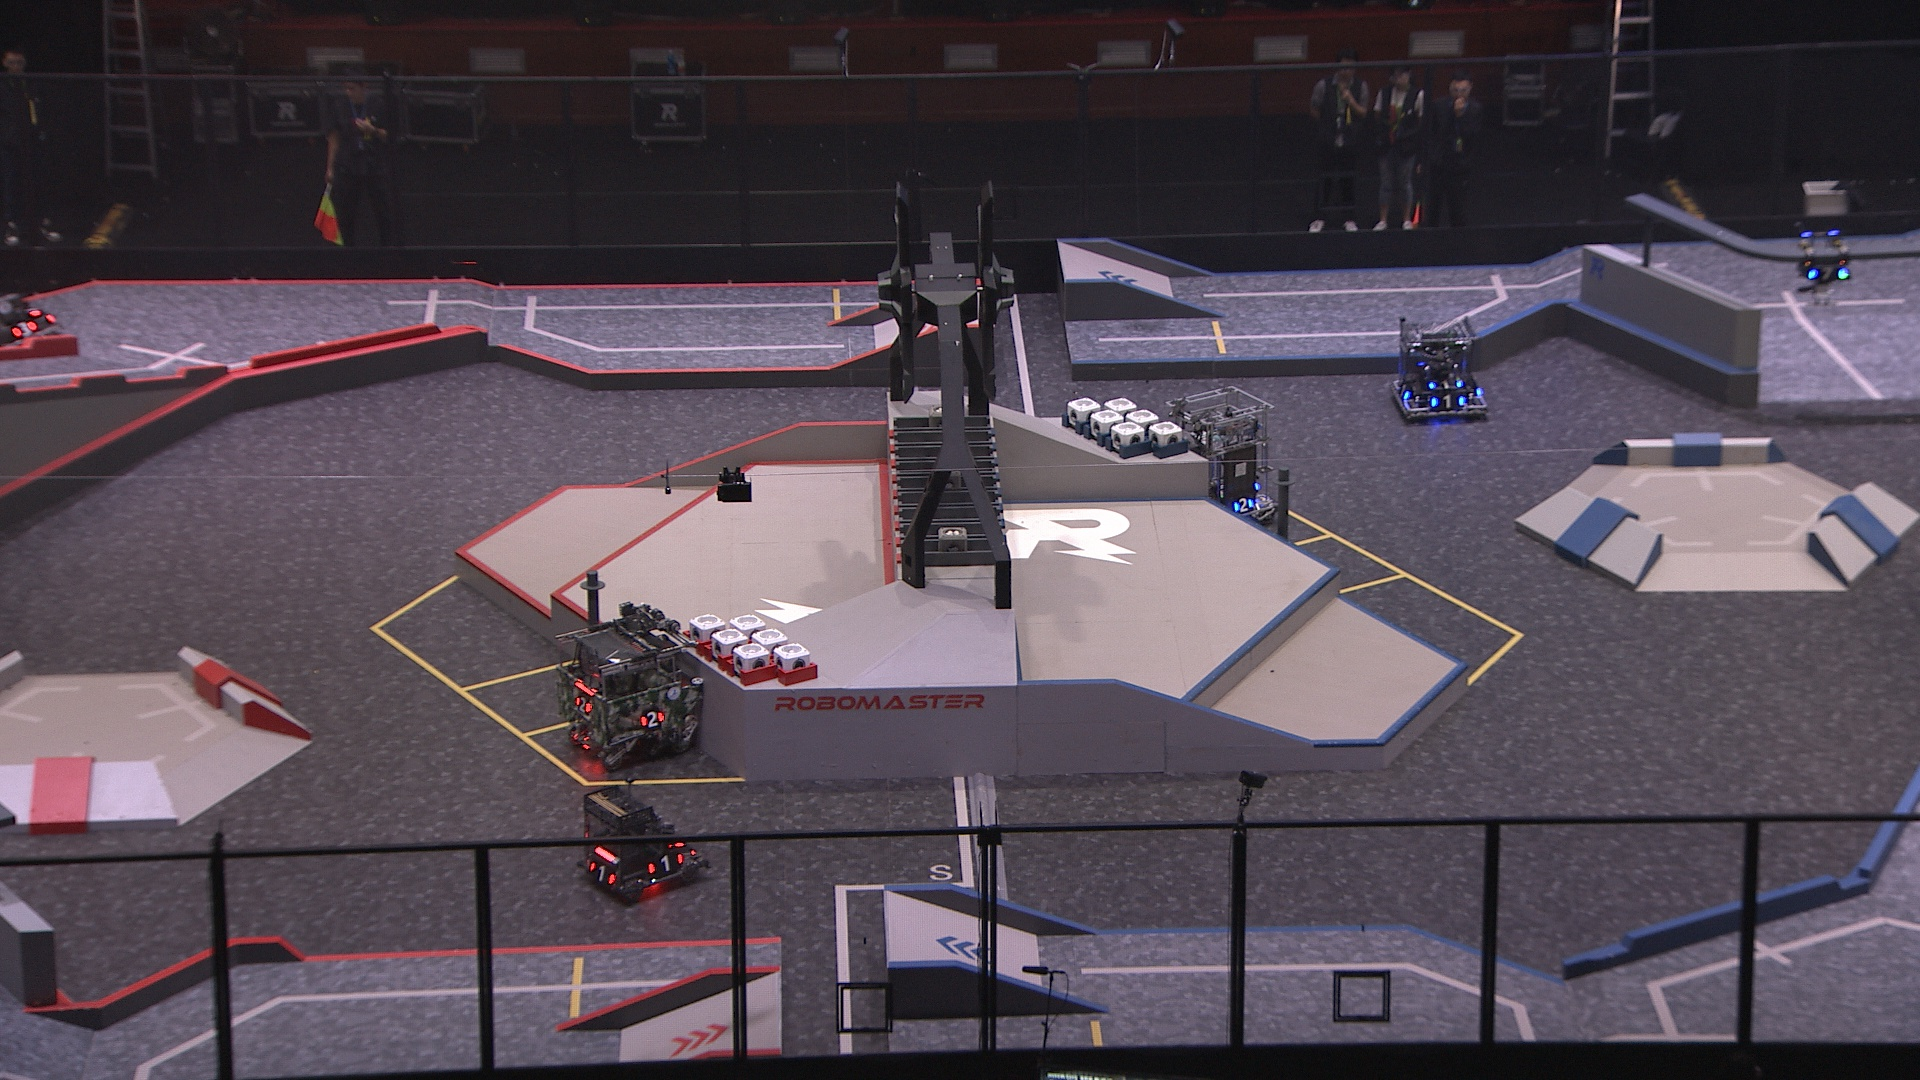armor: (646, 851, 683, 877), (1803, 264, 1851, 284), (1428, 392, 1466, 414), (583, 858, 615, 885), (1423, 375, 1462, 392), (638, 705, 665, 731), (11, 318, 38, 342), (571, 694, 595, 717), (1232, 495, 1257, 516), (1396, 378, 1411, 404), (24, 302, 45, 318)
car: (553, 597, 703, 760), (1164, 382, 1284, 527), (572, 789, 712, 910), (1391, 313, 1491, 419)
watcher: (1793, 219, 1854, 309)
